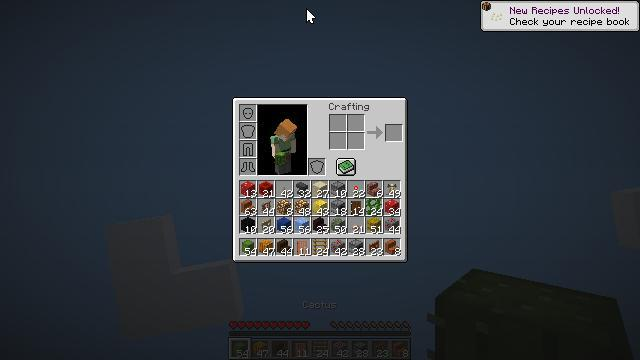cursor: (306, 8, 316, 24)
